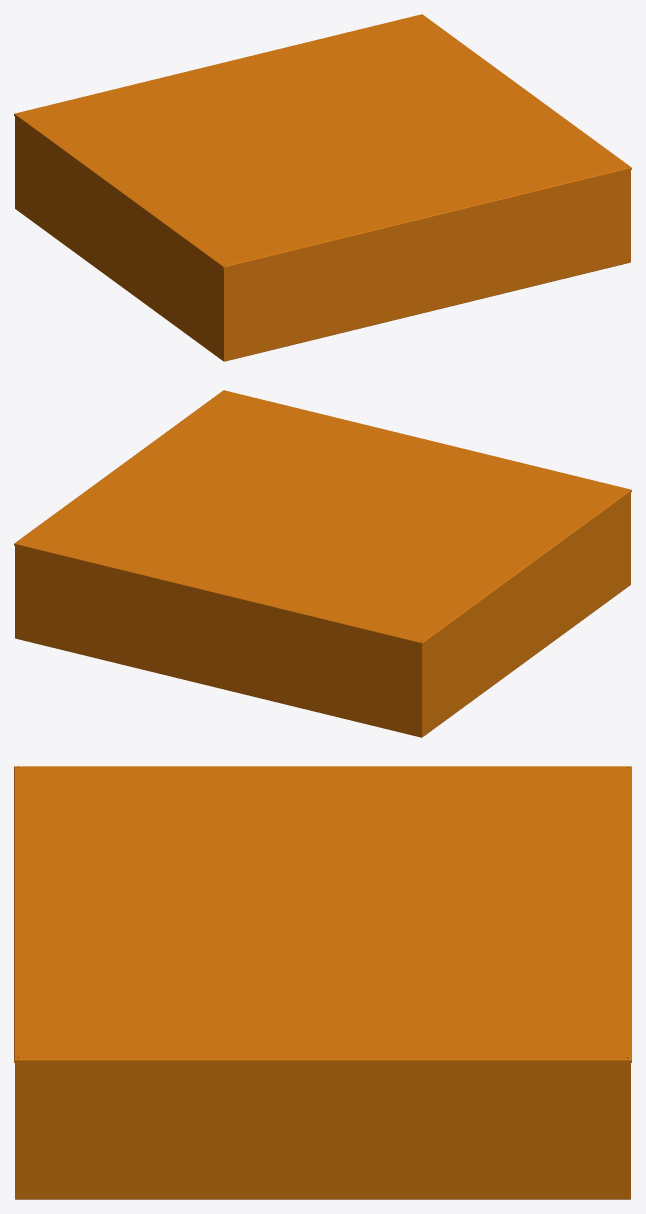
Rendered from (SBS) electrical enclosure.glb.
3 renders of one model, top to bottom at view 1: azimuth 30°, elevation 25°; view 2: azimuth 150°, elevation 25°; view 3: azimuth 270°, elevation 25°, orthographic. The views are drawn at different scales.
Parts seen in each view (by area): view 1: Solid6, Solid2; view 2: Solid6, Solid2; view 3: Solid6, Solid2.
Boxes of the visible parts, <box> form: Solid6: <box>14,14,631,268</box>; Solid2: <box>15,117,630,361</box>; Solid6: <box>14,390,631,644</box>; Solid2: <box>15,493,630,737</box>; Solid6: <box>14,766,631,1062</box>; Solid2: <box>15,1063,630,1199</box>.
Size of the model in its own units: 2.26 by 0.5055 by 2.01.
